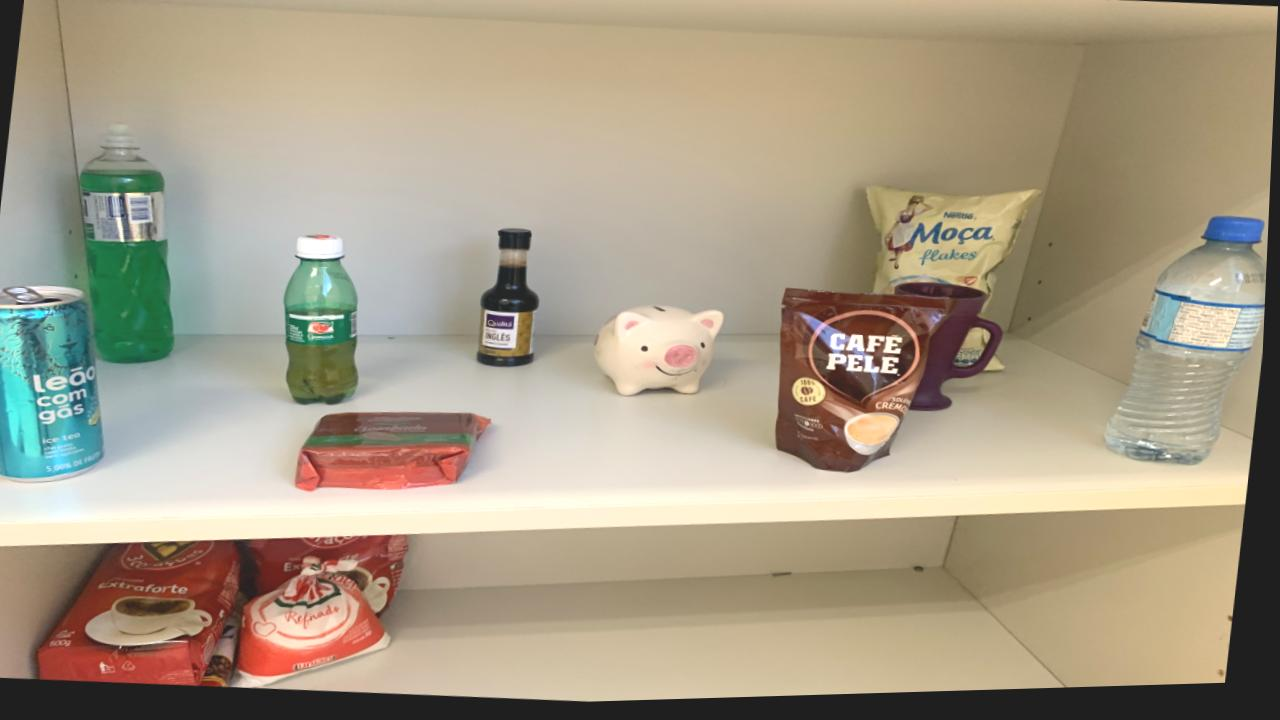Coffee-Pantry_Items: (779, 293, 956, 478)
Detergent-Cleanup_Items: (80, 127, 178, 364)
English_Sauce-Pantry_Items: (480, 230, 542, 370)
Flakes-Snacks: (868, 191, 1040, 319), (958, 335, 993, 371), (989, 362, 1007, 377)
Guarana-Drinks: (286, 236, 362, 406)
Guava-Snacks: (300, 414, 494, 492)
Pig_Safe-Miscellaneous: (596, 309, 727, 400)
Tea-Drinks: (0, 286, 107, 482)
Water_Bottle-Drinks: (1109, 224, 1269, 470)
